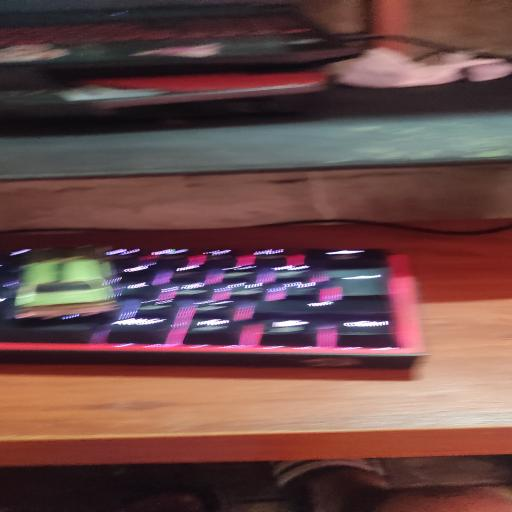Carrito: (14, 251, 117, 319)
